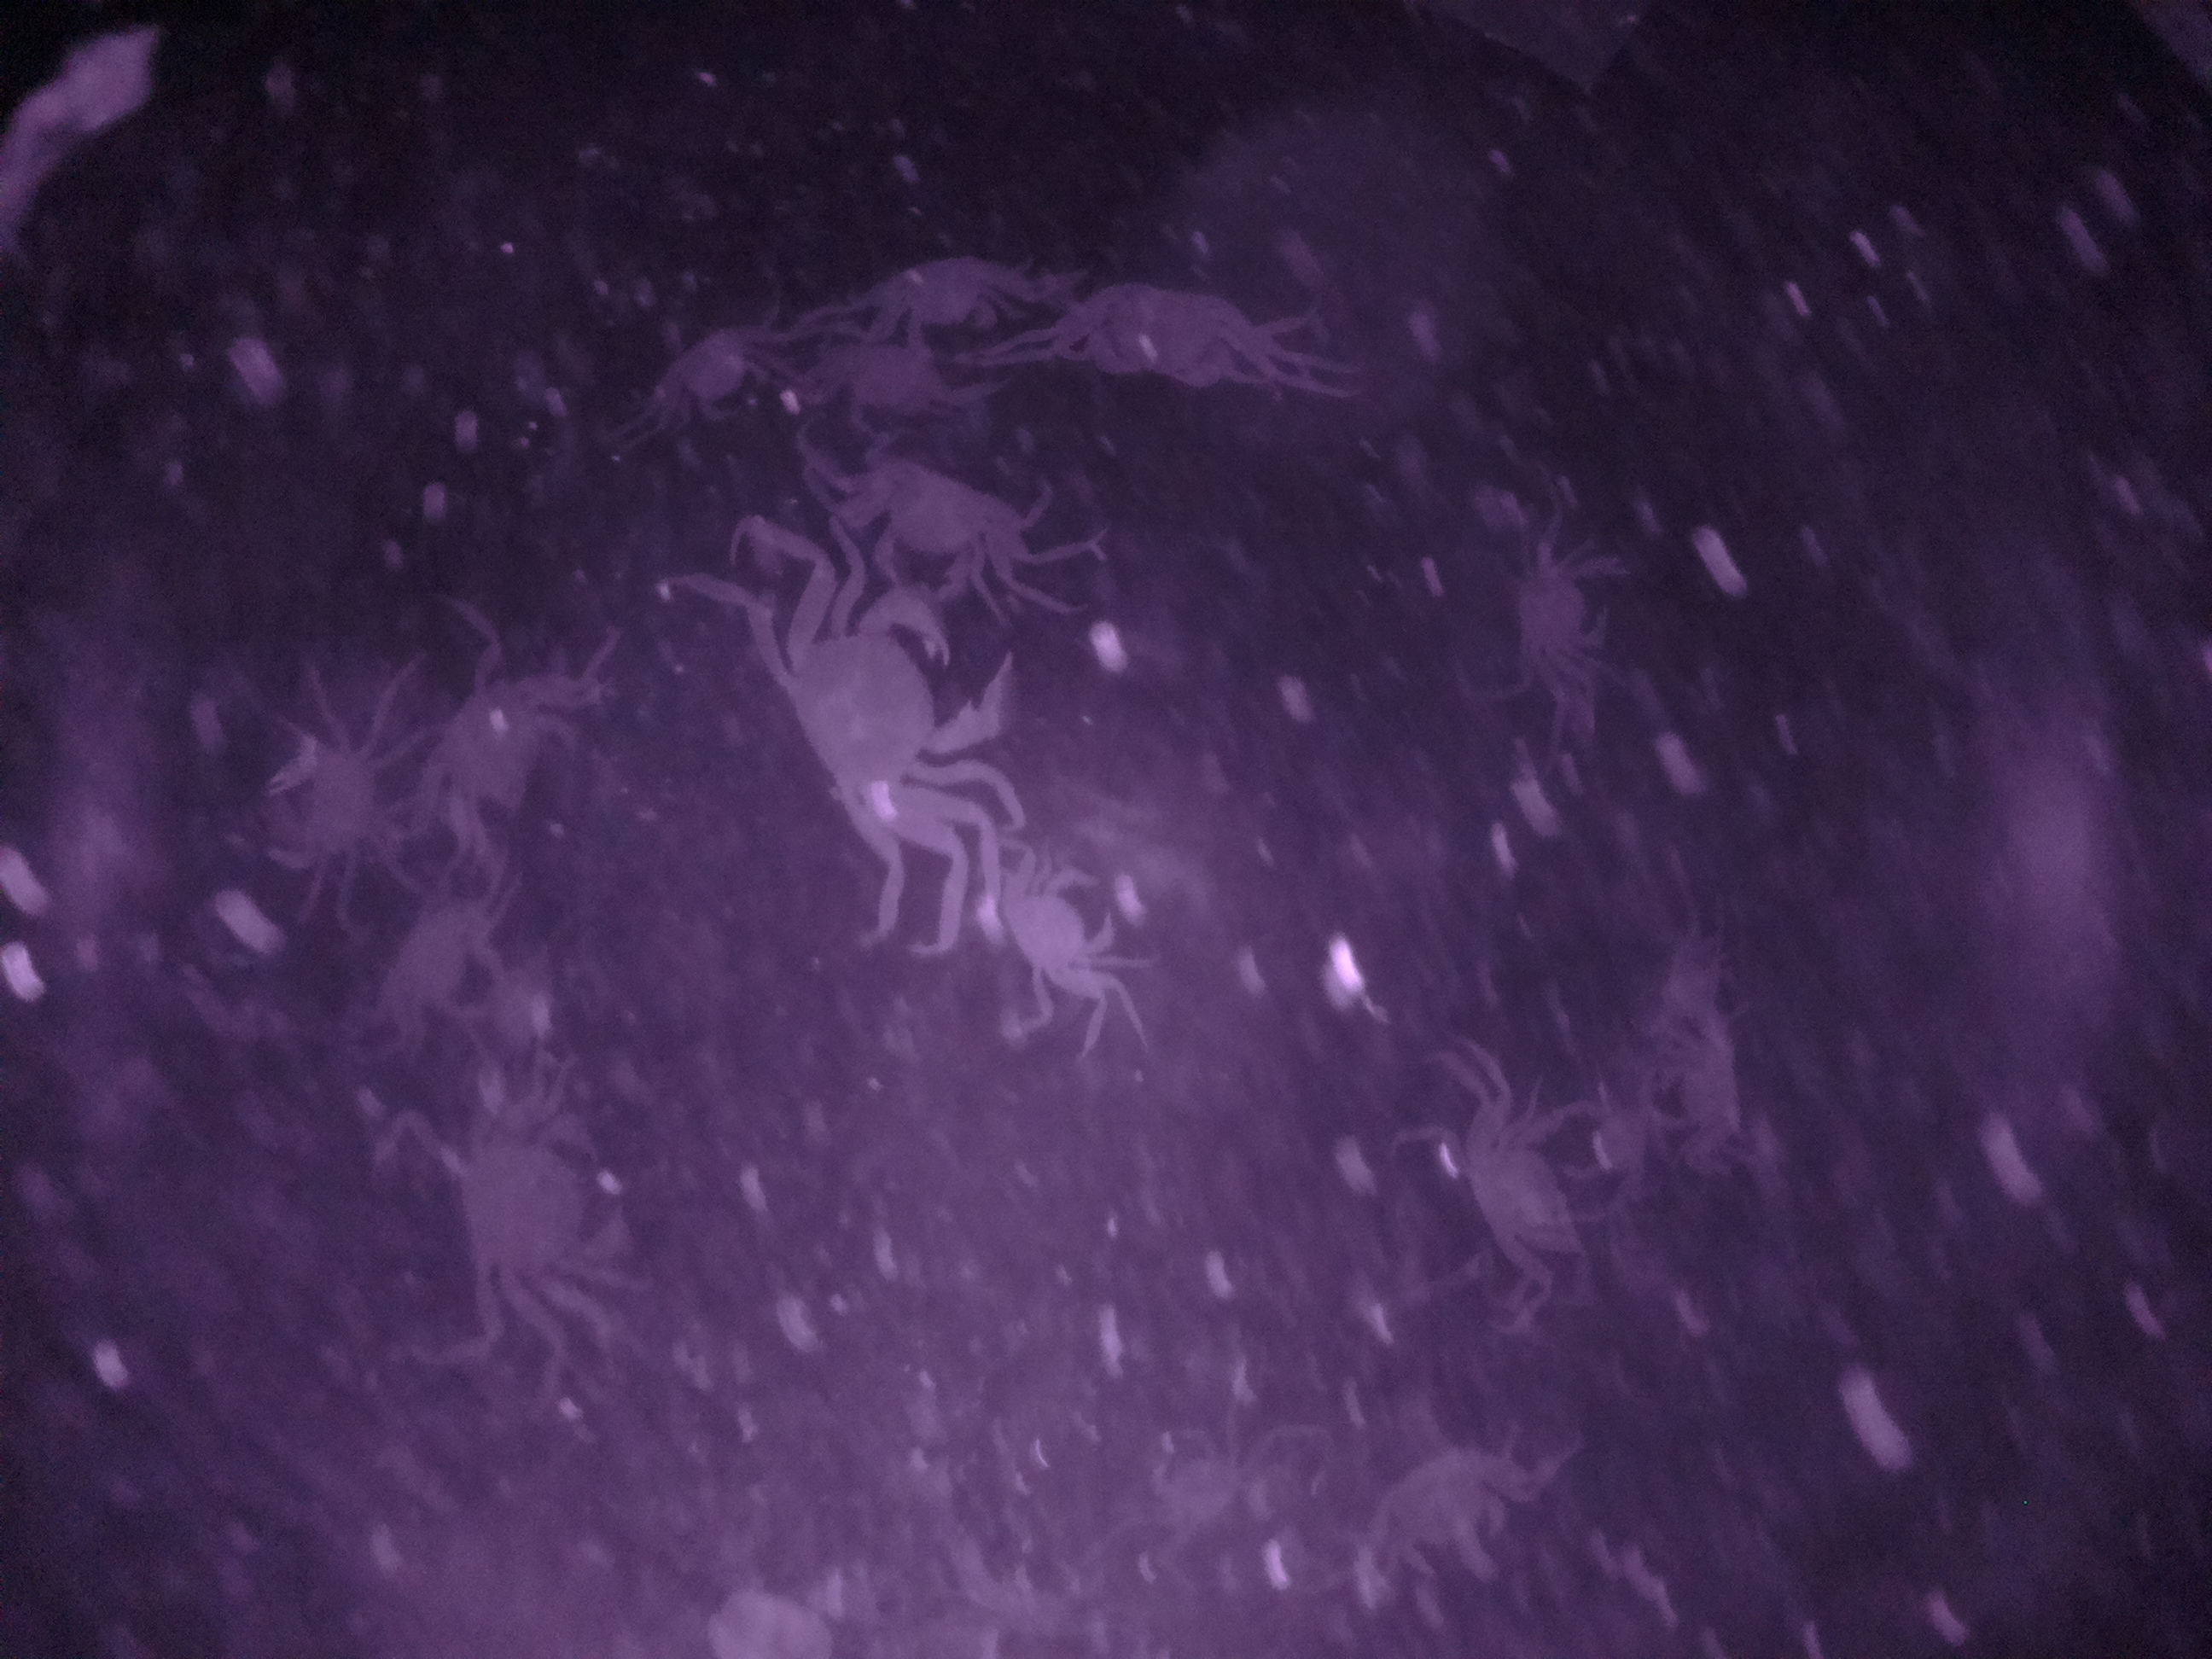Crab: (740, 584, 1036, 866), (427, 1061, 651, 1321), (1055, 251, 1292, 416), (826, 437, 1055, 605), (1433, 1094, 1599, 1291), (986, 838, 1132, 1026), (1493, 523, 1649, 697), (848, 227, 1035, 352), (646, 314, 786, 437)
